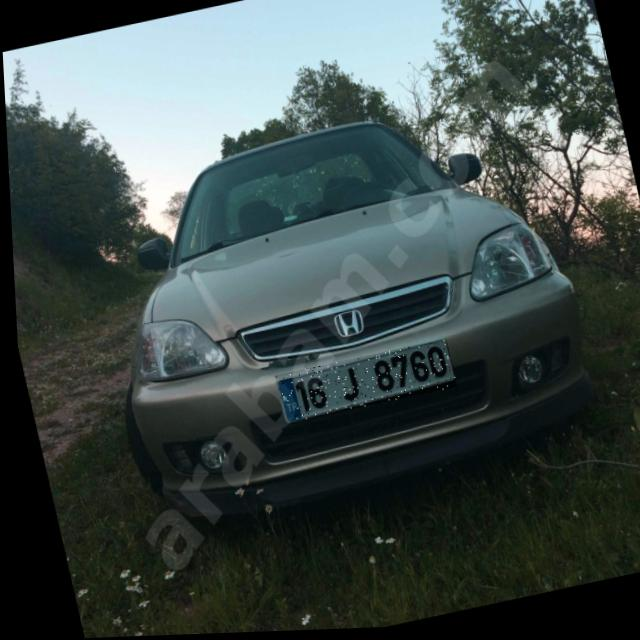license_plate: (269, 341, 454, 425)
